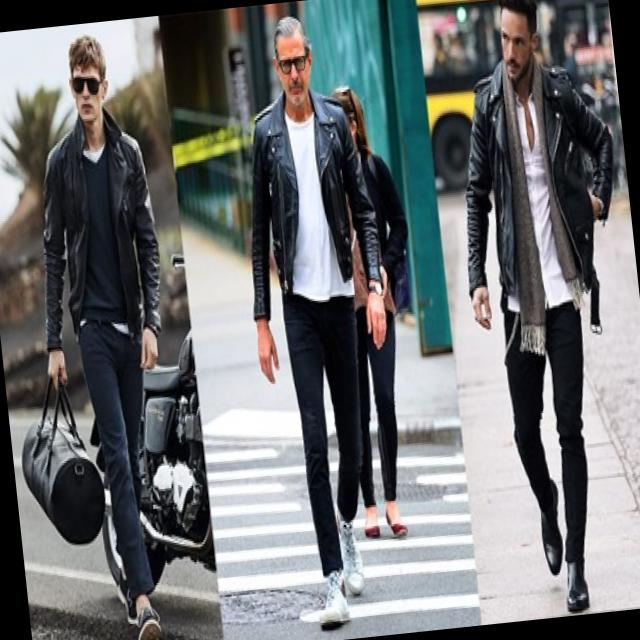Jacket: (444, 54, 635, 331), (19, 106, 178, 402), (228, 87, 384, 330)
